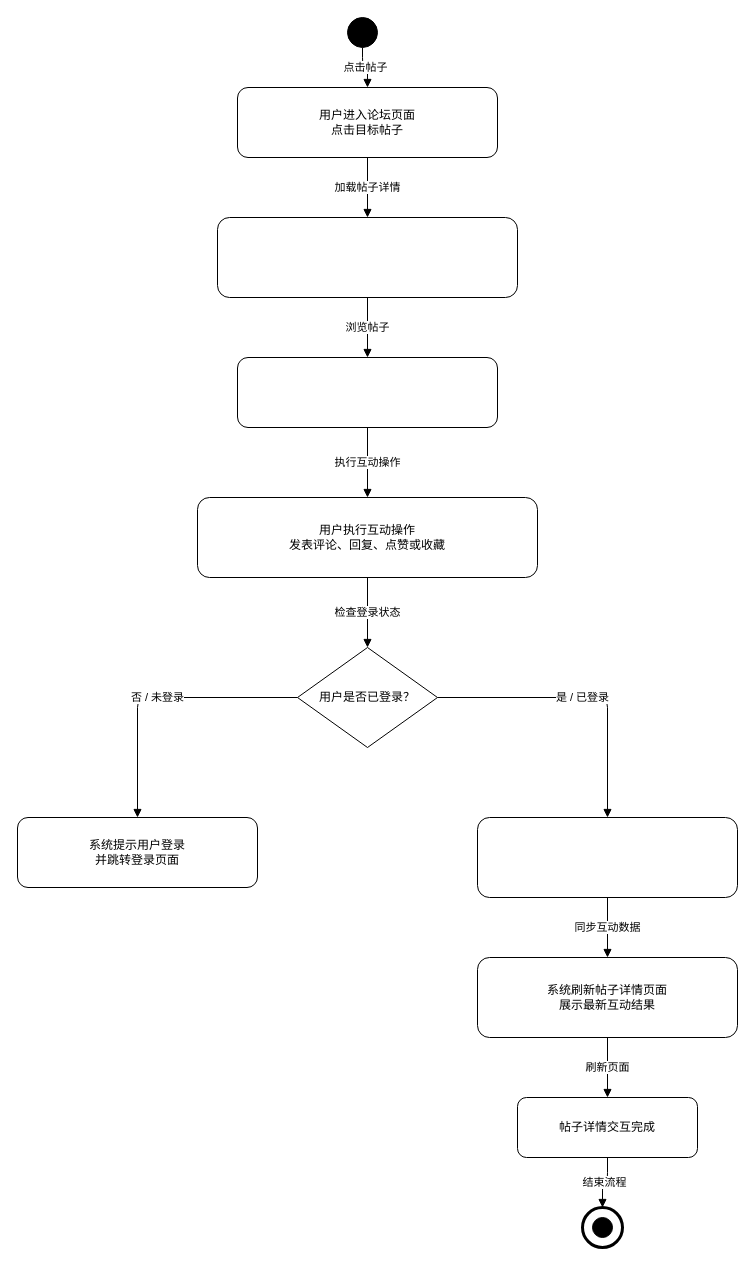
Image size: 755x1266. Some labels were removed from this diagram. The shapes that lost their labels are listed below. From the top down, each one's box as (x1, y1, x2, y2) in pixels, then its label:
(216, 216, 518, 298): 系统加载帖子详情页面 显示帖子内容与评论区
(236, 356, 498, 428): 用户浏览帖子内容 查看评论与互动信息
(476, 816, 738, 898): 系统接收互动请求 同步评论与点赞等数据
